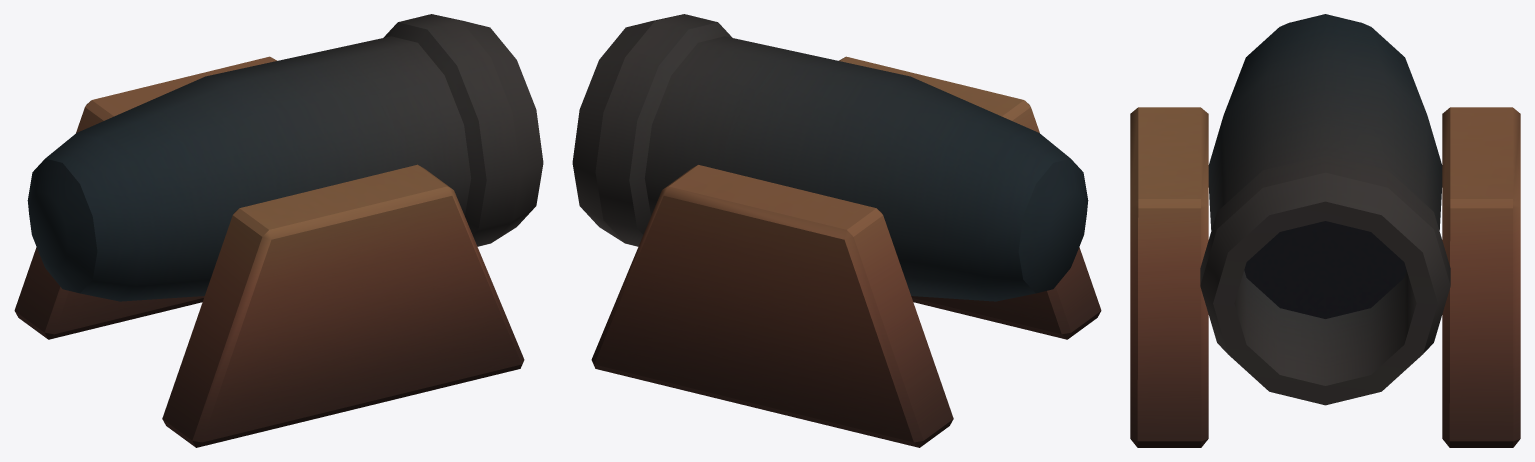
File: DM_Lethal_canon_01.fbx
3 views of the same model, side by side, from view 1: azimuth 30°, elevation 25°; view 2: azimuth 150°, elevation 25°; view 3: azimuth 270°, elevation 25° (orthographic). The views are drawn at different scales.
Parts seen in each view (by area): view 1: canonBarrel, canonBase; view 2: canonBarrel, canonBase; view 3: canonBarrel, canonBase.
Part boxes in pixels (bbox=[...]): canonBarrel: bbox=[27, 14, 543, 301]; canonBase: bbox=[14, 56, 524, 447]; canonBarrel: bbox=[572, 14, 1088, 301]; canonBase: bbox=[591, 56, 1101, 447]; canonBarrel: bbox=[1200, 14, 1450, 405]; canonBase: bbox=[1130, 107, 1520, 447].
Size of the model in its own units: 131 by 77.75 by 94.62.
